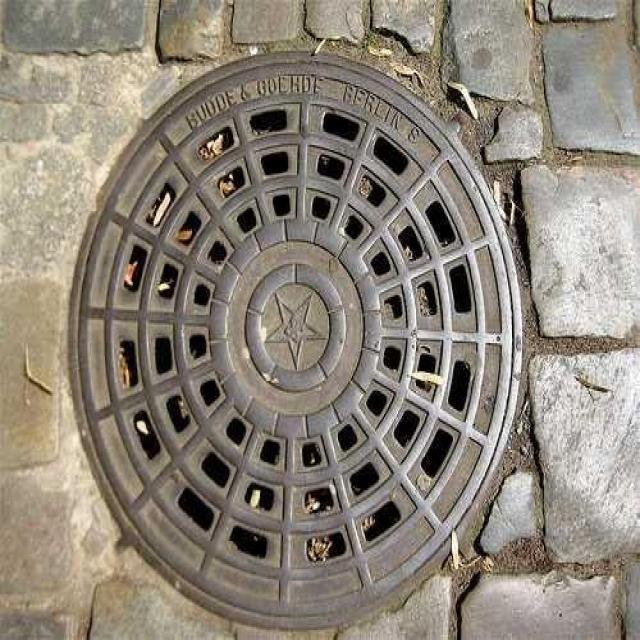manhole: (64, 54, 529, 635)
